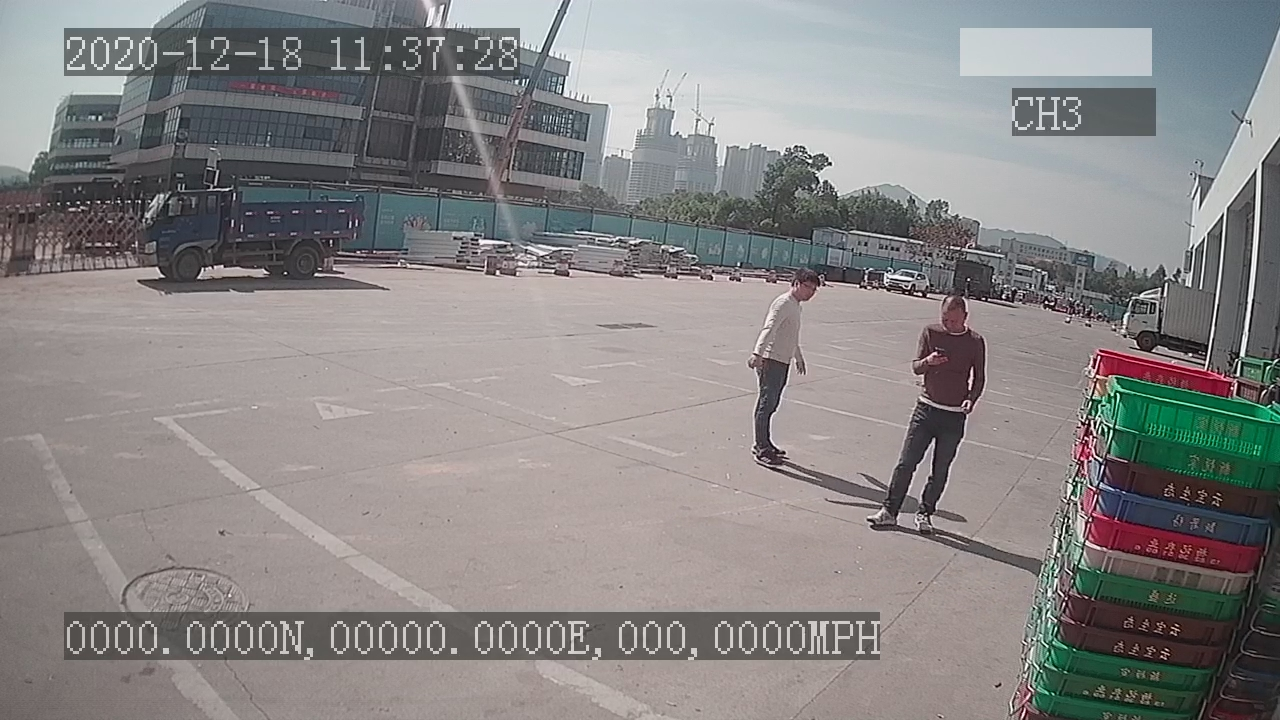person: (862, 290, 990, 541), (748, 263, 827, 465)
